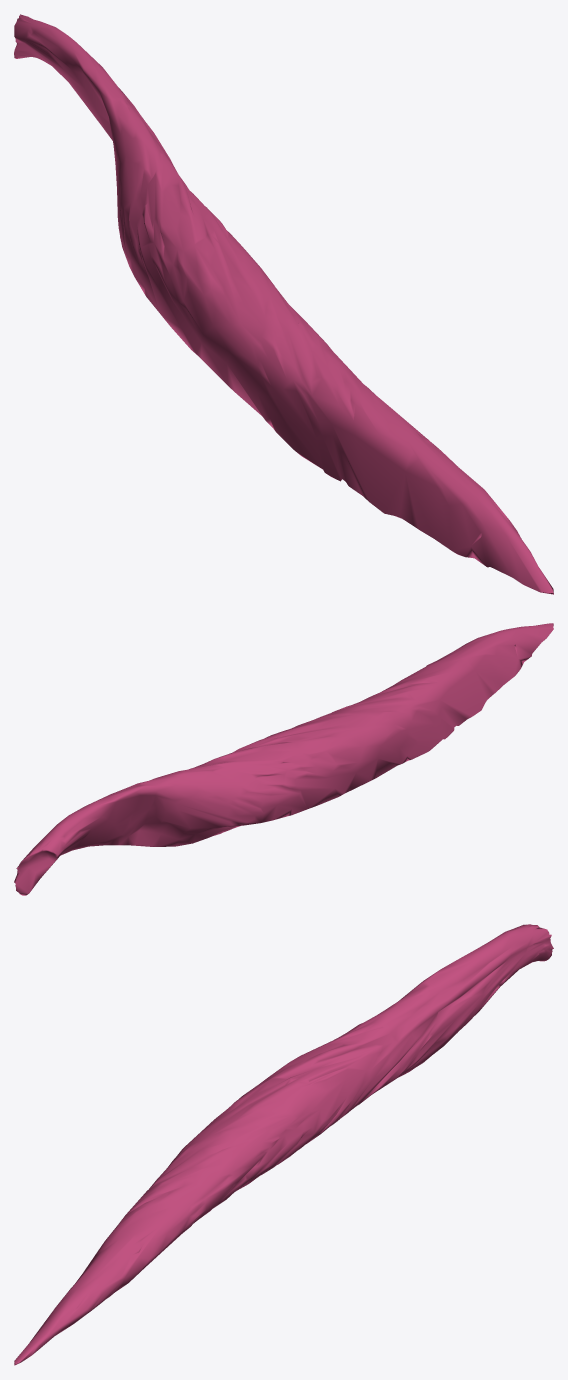
3 views of the same model, one above another, from view 1: azimuth 30°, elevation 25°; view 2: azimuth 150°, elevation 25°; view 3: azimuth 330°, elevation 25° (orthographic). The views are drawn at different scales.
Visible parts, largest first — view 1: 左侧股二头肌短头; view 2: 左侧股二头肌短头; view 3: 左侧股二头肌短头.
Boxes of the visible parts, <box> form: 左侧股二头肌短头: <box>14,14,553,594</box>; 左侧股二头肌短头: <box>14,623,553,895</box>; 左侧股二头肌短头: <box>14,924,553,1365</box>.
Size of the model in its own units: 0.0543 by 0.0617 by 0.444.
